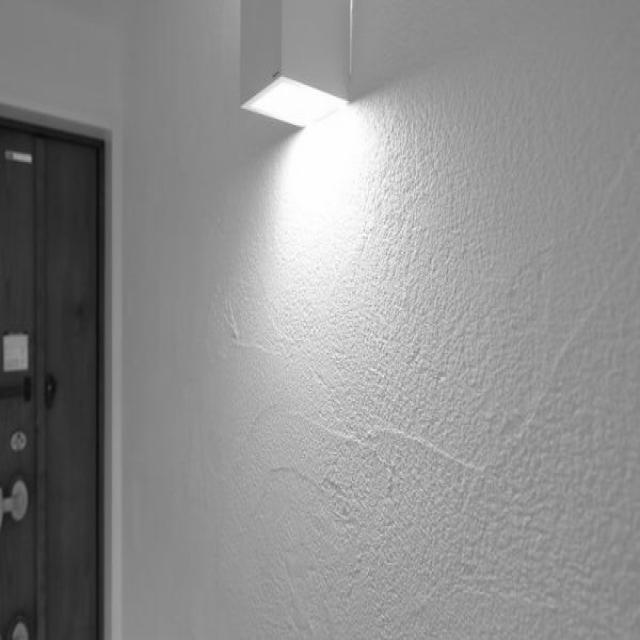trowels marks: (202, 124, 639, 640)
